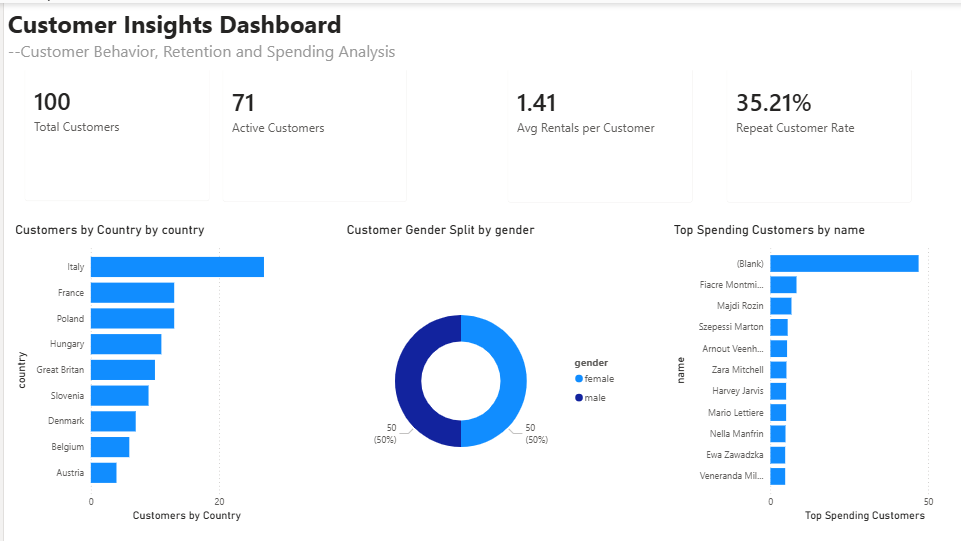

The dashboard page shown, as its layout file describes it:
{"tool":"powerbi","page":{"name":"Customer Insights Dashboard","canvas":[1280,720],"ordinal":1},"visuals":[{"type":"cardVisual","fields":{"Data":["Count(customers.customer_id)"]},"box":[10,0,280,280],"z":0},{"type":"cardVisual","fields":{"Data":["Count(renting.customer_id)"]},"box":[272.1,0,279.7,281.6],"z":1000},{"type":"clusteredBarChart","fields":{"Category":["customers.country"],"Y":["Count(customers.customer_id)"]},"box":[10,290.8,372.5,402.3],"z":2000},{"type":"donutChart","fields":{"Category":["customers.gender"],"Y":["CountNonNull(customers.customer_id)"]},"box":[450.1,290.8,376.4,402.3],"z":3000},{"type":"cardVisual","fields":{"Data":["actors.Avg Rentals per Customer"]},"box":[651,0,280,282],"z":4000},{"type":"clusteredBarChart","fields":{"Category":["customers.name"],"Y":["actors.Total Revenue"]},"box":[884.3,290.8,396.4,402.3],"z":5000},{"type":"cardVisual","fields":{"Data":["actors.Repeat Customer Rate"]},"box":[942,0,280,282],"z":6000},{"type":"textbox","box":[0,0,1222.9,89.6],"z":7000}]}

Visuals, with their boxes in screenshot pixels (x1, y1, x2, y2), scaled from the page's 1280x720 canvas onto the 961x541 screenshot:
cardVisual - Count(customers.customer_id): Rect(8, 0, 218, 210)
cardVisual - Count(renting.customer_id): Rect(204, 0, 414, 212)
clusteredBarChart - customers.country x Count(customers.customer_id): Rect(8, 219, 287, 521)
donutChart - customers.gender x CountNonNull(customers.customer_id): Rect(338, 219, 621, 521)
cardVisual - actors.Avg Rentals per Customer: Rect(489, 0, 699, 212)
clusteredBarChart - customers.name x actors.Total Revenue: Rect(664, 219, 960, 521)
cardVisual - actors.Repeat Customer Rate: Rect(707, 0, 917, 212)
textbox: Rect(0, 0, 918, 67)
